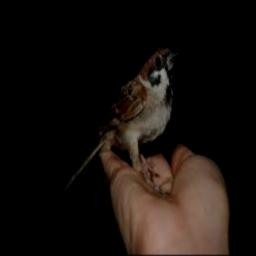Sparrow: (64, 44, 183, 190)
